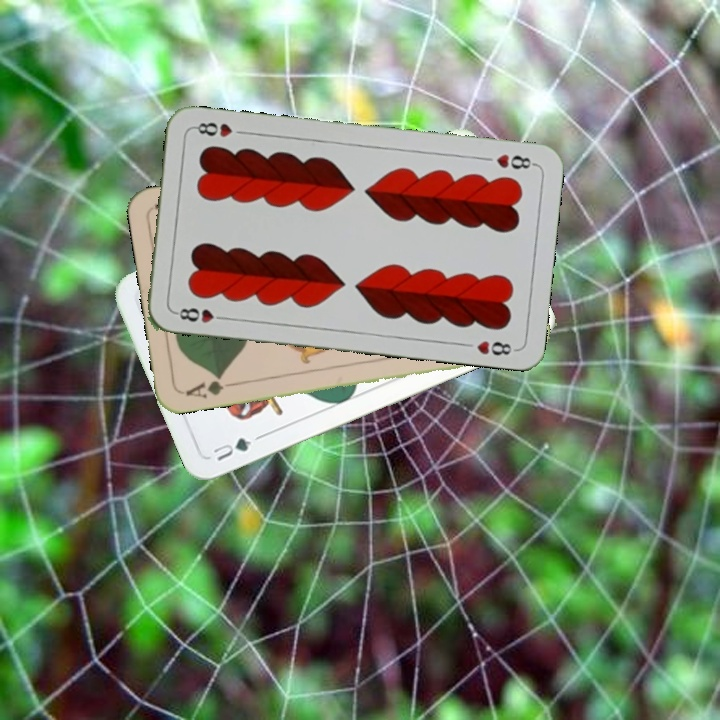GA: (182, 371, 239, 401)
GU: (209, 433, 255, 464)
H8: (171, 304, 230, 325), (492, 150, 538, 172)
